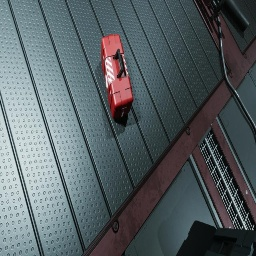FirstAidBox ,: (101, 34, 133, 119)
